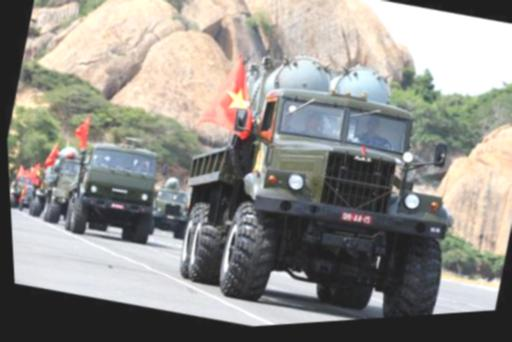License_Plate: (341, 208, 373, 227)
